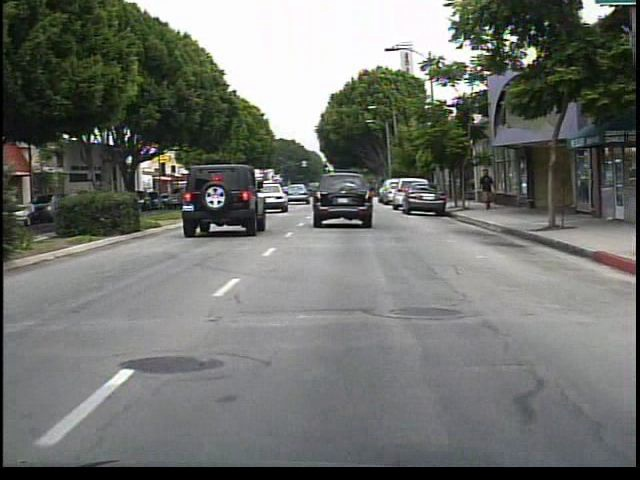person: (476, 166, 500, 213)
